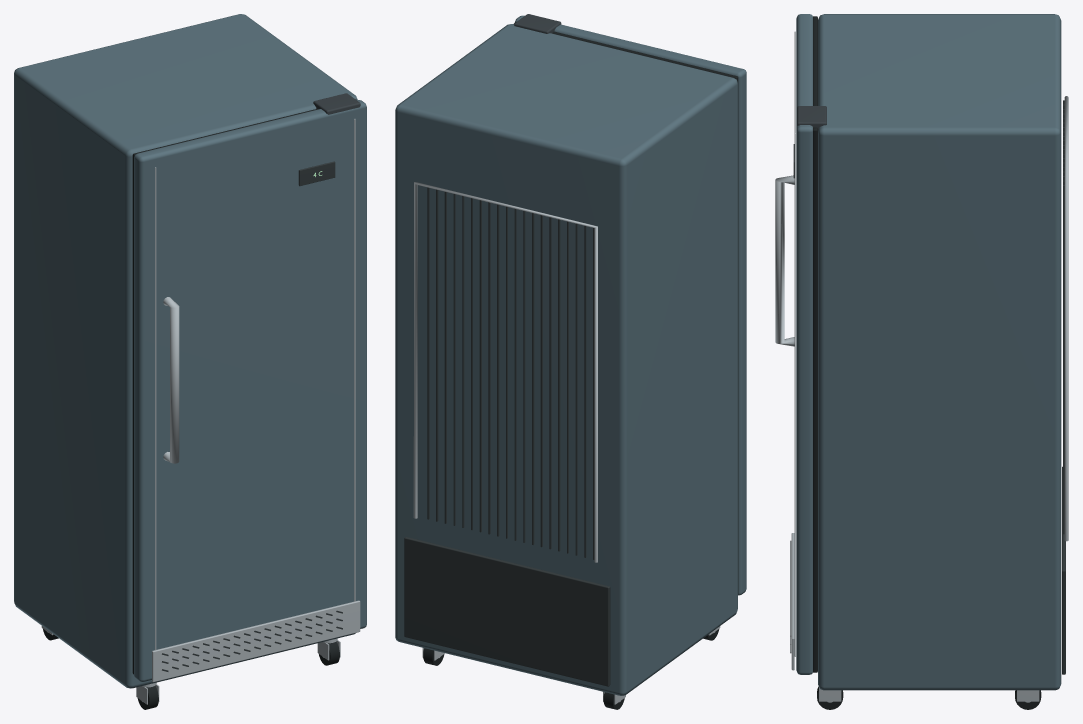
The model's file is garage-all-refrigerator.glb.
The picture shows the model from 3 angles, left to right: view 1: azimuth 30°, elevation 25°; view 2: azimuth 150°, elevation 25°; view 3: azimuth 270°, elevation 25°; orthographic projection. The views are drawn at different scales.
Parts seen in each view (by area): view 1: catalog_surface_RealismUV; view 2: catalog_surface_RealismUV; view 3: catalog_surface_RealismUV.
Boxes of the visible parts, x1,y1,x2,y2 form: catalog_surface_RealismUV: (14,14,366,709); catalog_surface_RealismUV: (395,14,746,709); catalog_surface_RealismUV: (775,14,1068,709).
Bounding box in the file's own units: 0.785 × 1.84 × 0.822.
